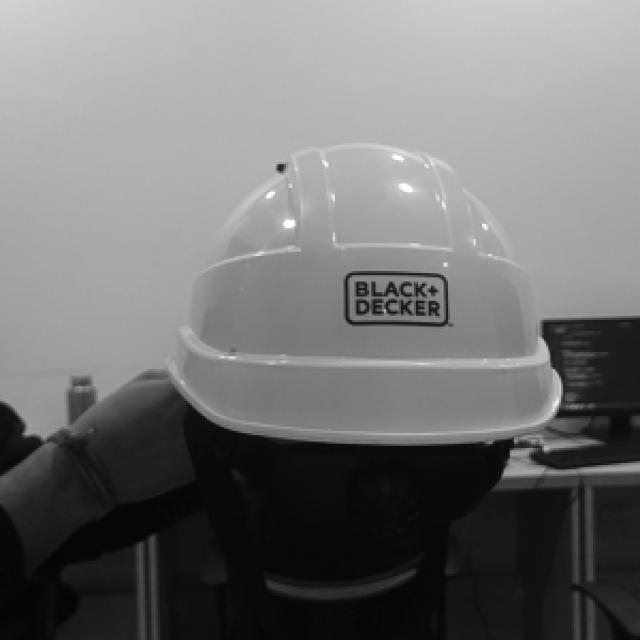safety_helmet: (166, 145, 564, 444)
